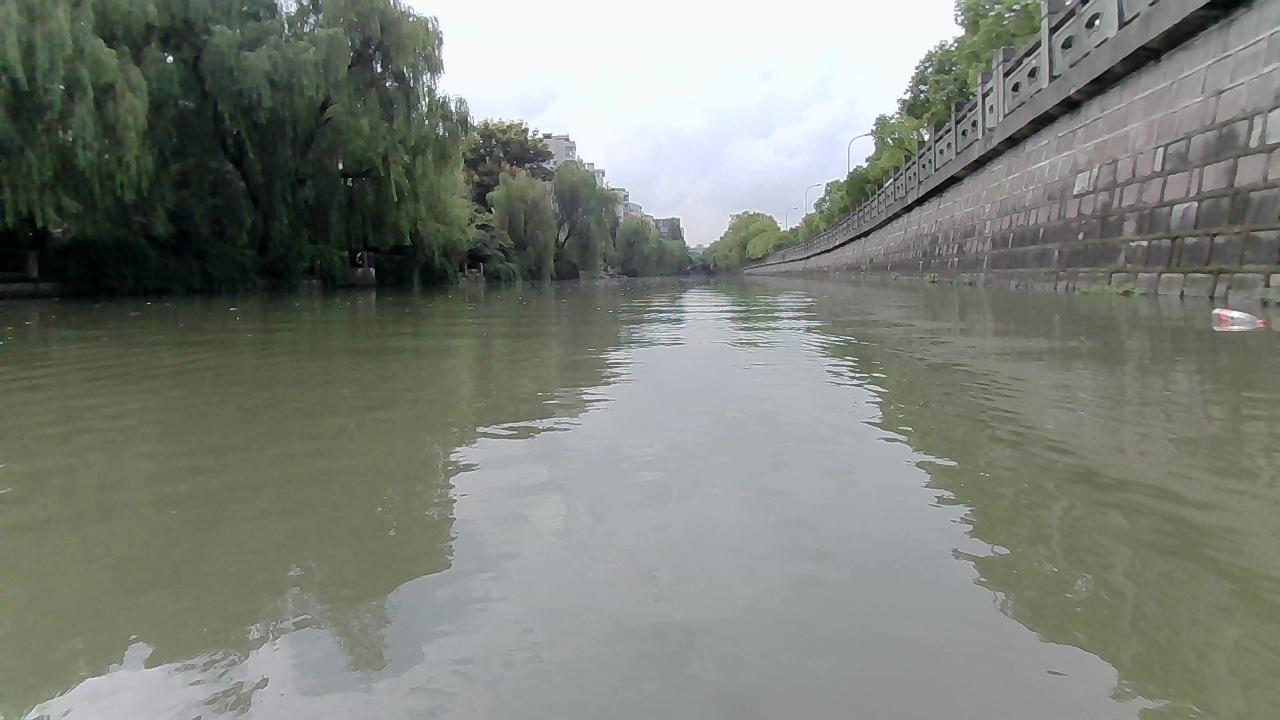bottle: (1209, 307, 1267, 324)
